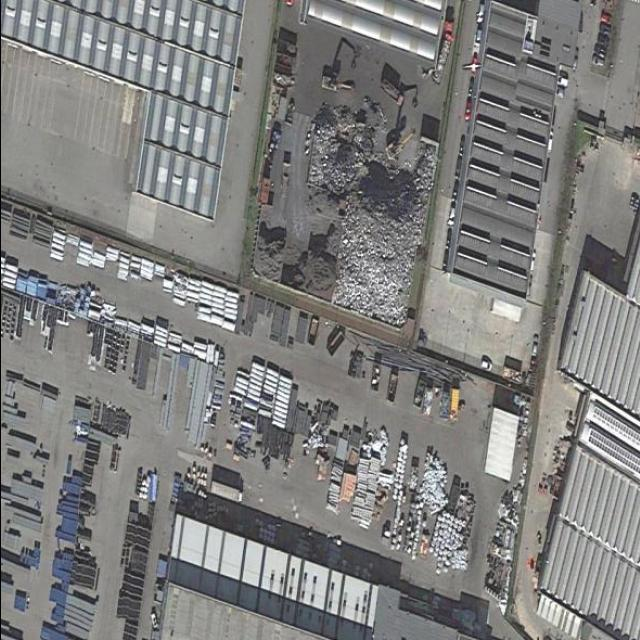dump_site: (329, 123, 432, 328), (302, 99, 371, 206), (413, 448, 452, 516)
